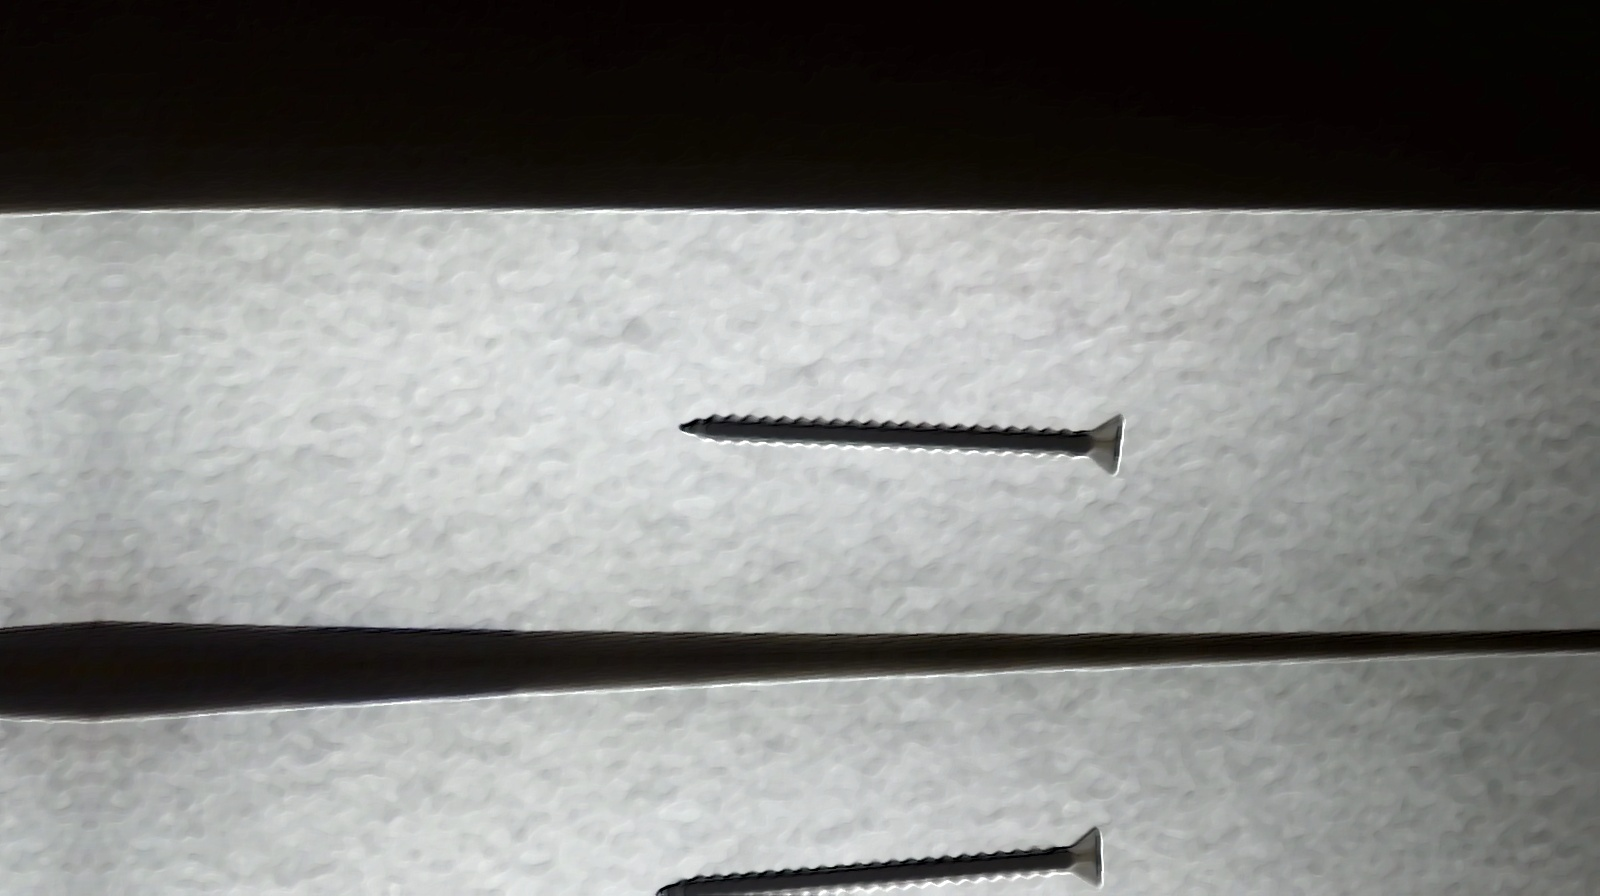S002: (643, 386, 1151, 495)
